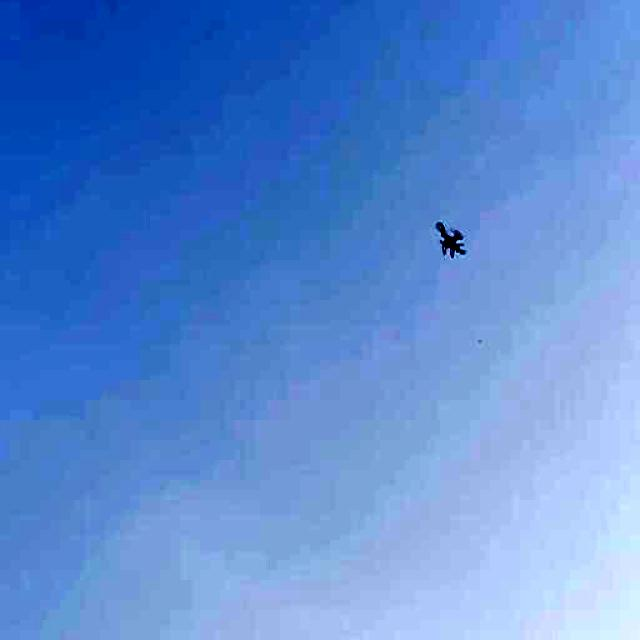bird: (435, 218, 470, 265)
